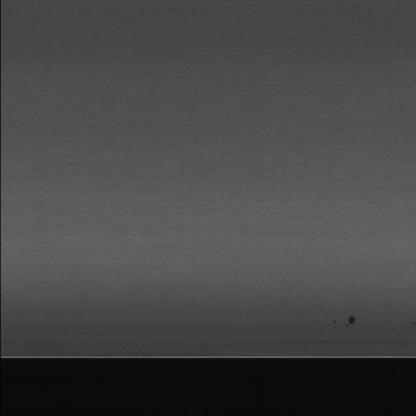oil_spot: (330, 310, 365, 330)
